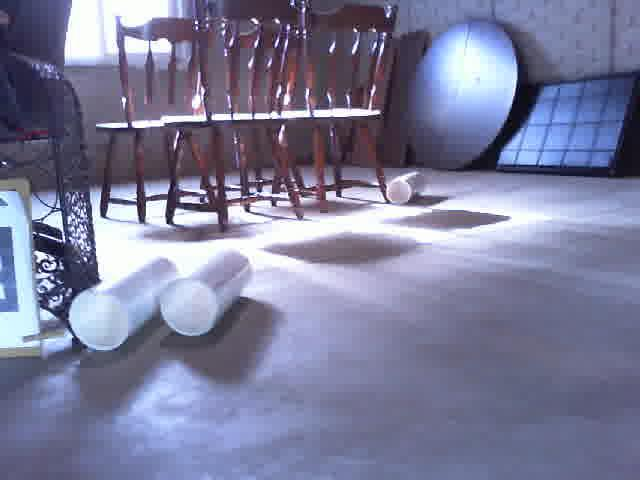coral: (68, 253, 180, 353), (159, 247, 255, 340), (387, 170, 425, 206)
